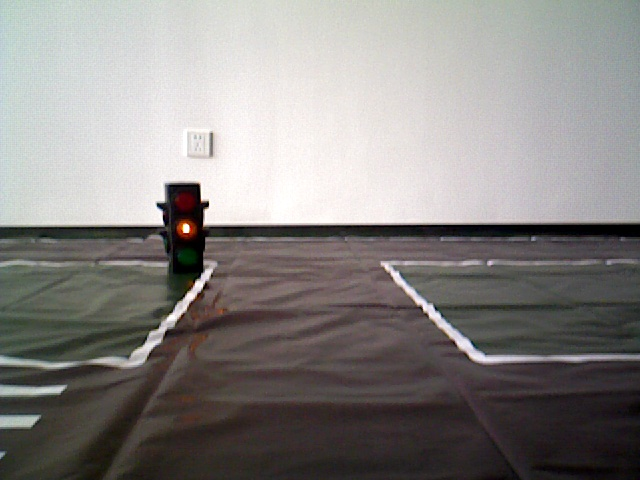yellow: (161, 182, 209, 275)
